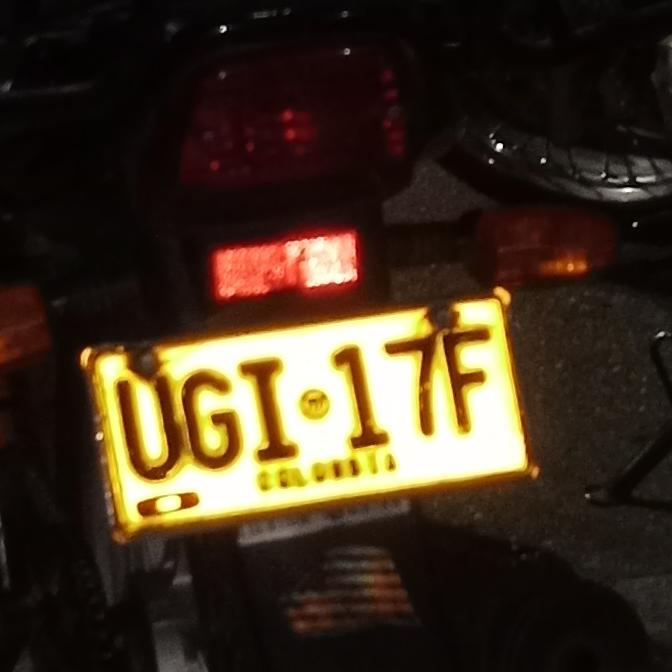plates: (81, 299, 540, 527)
